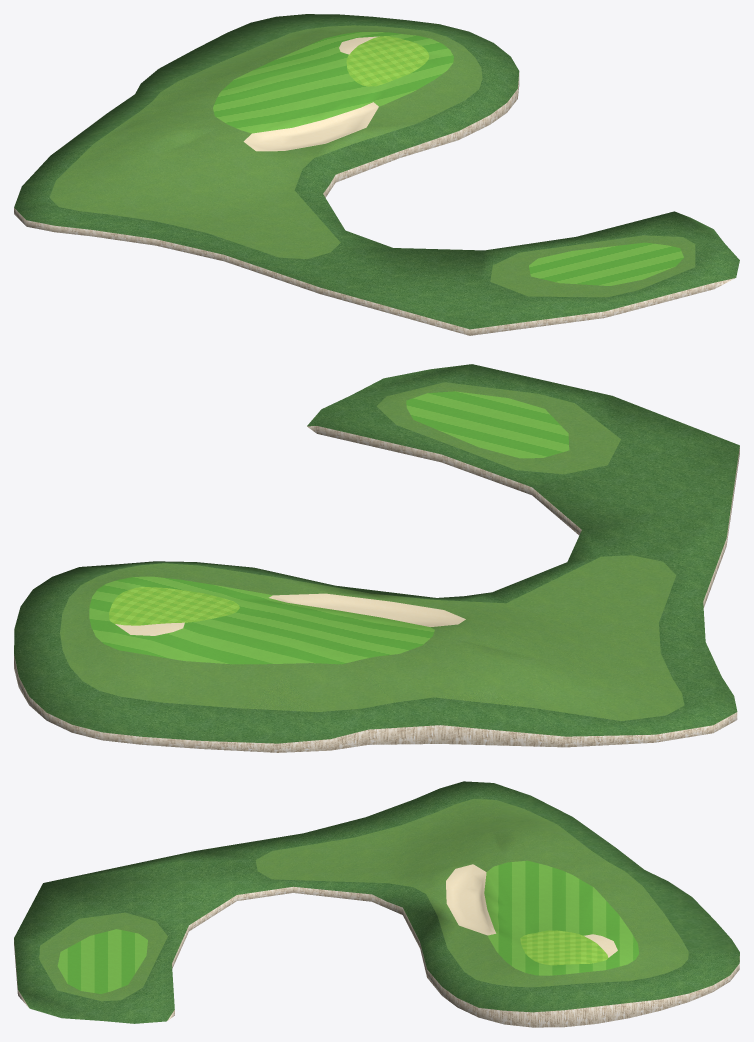
File: GolfTest.glb
The picture shows the model from 3 angles, top to bottom: view 1: azimuth 30°, elevation 25°; view 2: azimuth 150°, elevation 25°; view 3: azimuth 270°, elevation 25°; orthographic projection. The views are drawn at different scales.
Visible parts, largest first — view 1: GolfTest; view 2: GolfTest; view 3: GolfTest.
Part boxes in pixels (x1,y1,x2,y2): GolfTest: (14, 14, 739, 335); GolfTest: (14, 364, 739, 752); GolfTest: (14, 781, 739, 1027).
Bounding box in the file's own units: 69.31 × 4.03 × 88.58.
Materials: 6 (6 with a texture image).
